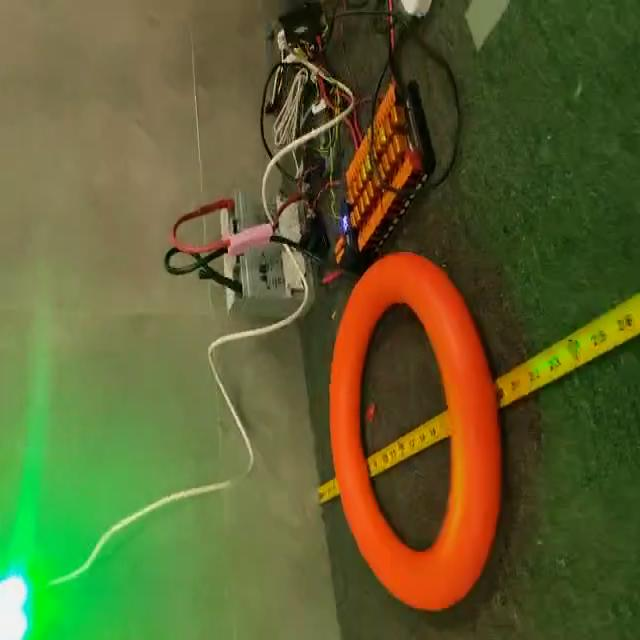note: (327, 252, 505, 618)
